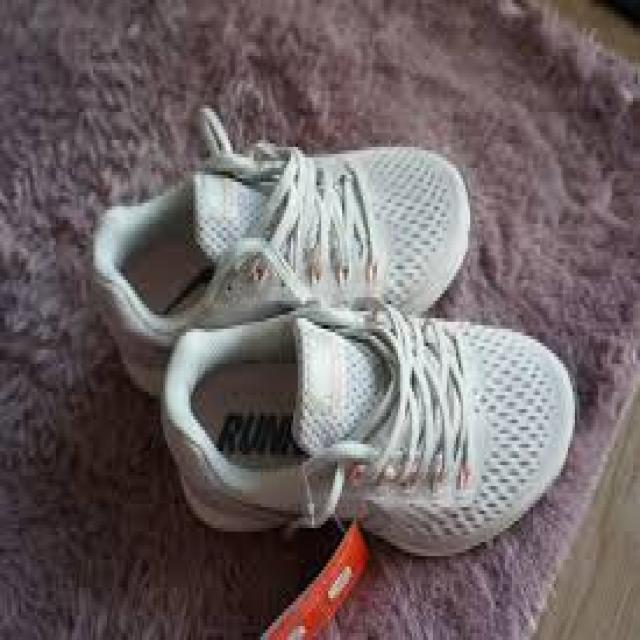shoe: (93, 108, 470, 399), (161, 297, 577, 560)
